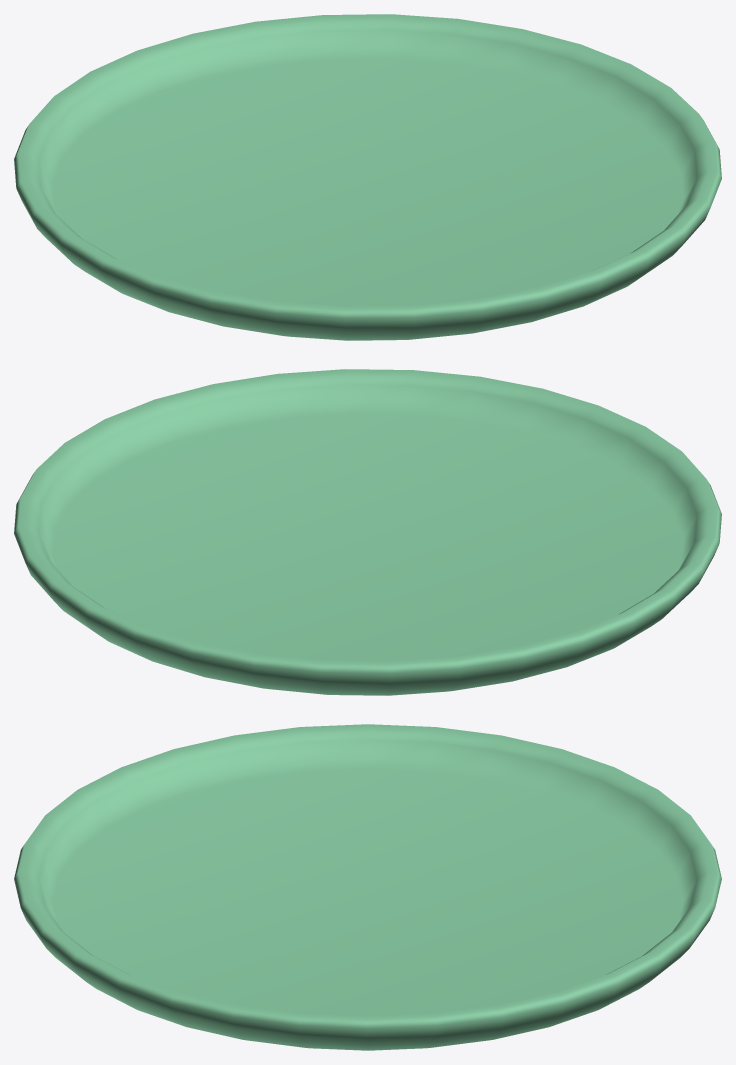
File: Teller.fbx
3 views of the same model, one above another, from view 1: azimuth 30°, elevation 25°; view 2: azimuth 150°, elevation 25°; view 3: azimuth 270°, elevation 25° (orthographic).
Visible parts, largest first — view 1: Teller; view 2: Teller; view 3: Teller.
Part boxes in pixels (left/top/right/bottom): Teller: left=14, top=14, right=721, bottom=340; Teller: left=14, top=369, right=721, bottom=695; Teller: left=14, top=724, right=721, bottom=1050.
Bounding box in the file's own units: 210 × 16.58 × 210.
